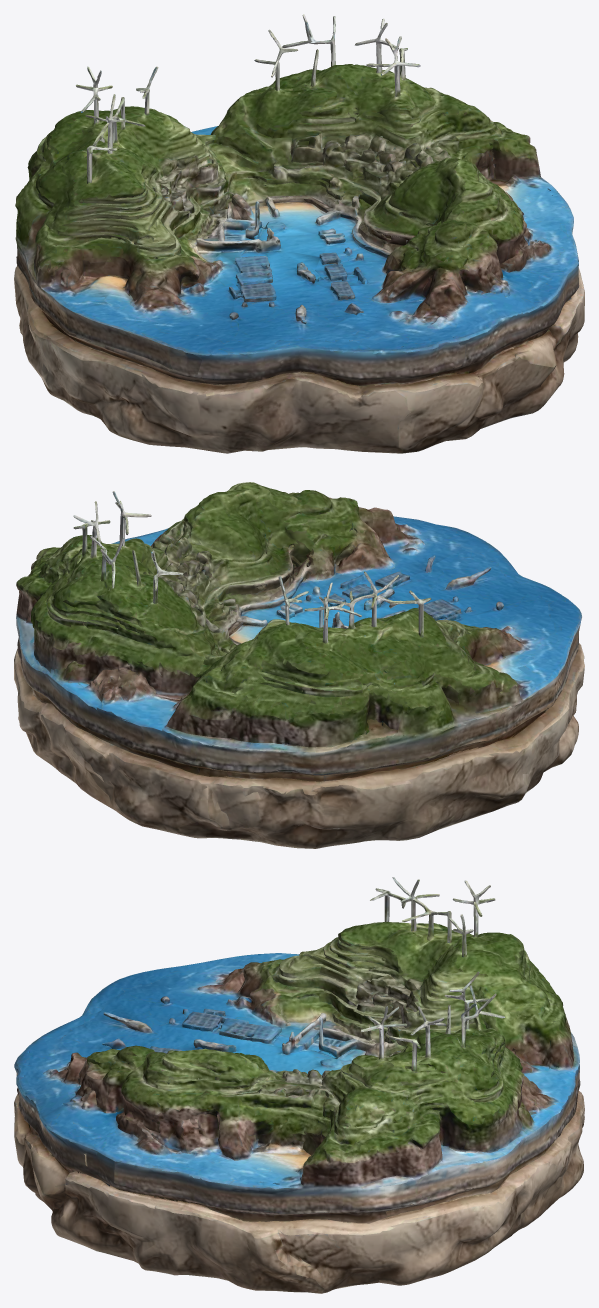
File: dachendao.min.glb
The picture shows the model from 3 angles, top to bottom: view 1: azimuth 30°, elevation 25°; view 2: azimuth 150°, elevation 25°; view 3: azimuth 270°, elevation 25°; orthographic projection.
Visible parts, largest first — view 1: geometry_0; view 2: geometry_0; view 3: geometry_0.
Boxes of the visible parts, bbox=[...] form: geometry_0: bbox=[14, 14, 584, 453]; geometry_0: bbox=[14, 482, 584, 848]; geometry_0: bbox=[14, 877, 584, 1293].
Size of the model in its own units: 0.4499 by 0.2139 by 0.4498.
1 material, 1 textured.
